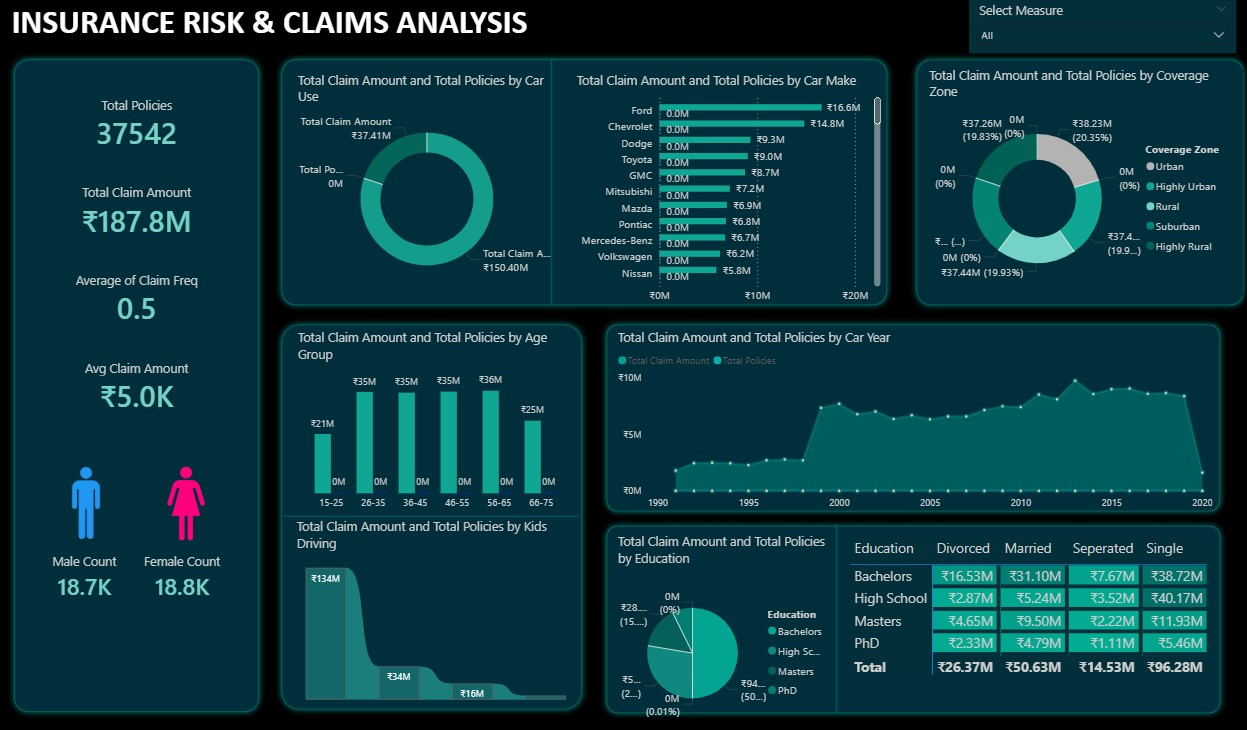

The page's visual inventory and layout, read from the dashboard file:
{"tool":"powerbi","page":{"name":"Page 1","canvas":[1600,950],"ordinal":0},"visuals":[{"type":"textbox","box":[11.2,0,683.6,71.9],"z":0},{"type":"shape","box":[11.2,71.9,329,849.7],"z":1000},{"type":"cardVisual","fields":{"Data":["insurance_data_car.Total Policies","insurance_data_car.Total Claim Amount","Avg(insurance_data_car.Claim Freq)","insurance_data_car.Avg Claim Amount"]},"box":[41.5,100.6,269.9,460],"z":2000},{"type":"cardVisual","fields":{"Data":["insurance_data_car.Male Count","insurance_data_car.Female Count"]},"box":[41.5,685.2,260.3,110.2],"z":3000},{"type":"image","box":[85,561.7,355,170],"z":4000},{"type":"image","box":[0,595,221.7,101.7],"z":5000},{"type":"slicer","fields":{"Values":["Select Measure.Select Measure"]},"box":[1239.4,0,341.8,71.9],"z":6000},{"type":"shape","box":[353.3,71.7,790,330],"z":7000},{"type":"donutChart","fields":{"Y":["insurance_data_car.Total Claim Amount","insurance_data_car.Total Policies"],"Category":["insurance_data_car.Car Use"]},"box":[376.7,95,340,285],"z":8000},{"type":"clusteredBarChart","fields":{"Y":["insurance_data_car.Total Claim Amount","insurance_data_car.Total Policies"],"Category":["insurance_data_car.Car Make"]},"box":[733.3,95,398.3,306.7],"z":9000},{"type":"shape","box":[1165,71.7,435,330],"z":10000},{"type":"donutChart","fields":{"Y":["insurance_data_car.Total Claim Amount","insurance_data_car.Total Policies"],"Category":["insurance_data_car.Coverage Zone"]},"box":[1183.3,88.3,398.3,296.7],"z":11000},{"type":"shape","box":[353.3,410,400,508],"z":12000},{"type":"clusteredColumnChart","fields":{"Y":["insurance_data_car.Total Claim Amount","insurance_data_car.Total Policies"],"Category":["insurance_data_car.Age Group"]},"box":[376.9,423.3,364.2,241.2],"z":13000},{"type":"ribbonChart","fields":{"Y":["insurance_data_car.Total Claim Amount","insurance_data_car.Total Policies"],"Category":["insurance_data_car.Kids Driving"]},"box":[375.3,664.4,365.8,239.6],"z":14000},{"type":"shape","box":[768.2,410.5,800,255],"z":15000},{"type":"shape","box":[768.2,667.6,800.2,255.5],"z":16000},{"type":"areaChart","fields":{"Y":["insurance_data_car.Total Claim Amount","insurance_data_car.Total Policies"],"Category":["insurance_data_car.Car Year"]},"box":[785.8,423.3,769.8,241.2],"z":17000},{"type":"pieChart","fields":{"Y":["insurance_data_car.Total Claim Amount","insurance_data_car.Total Policies"],"Category":["insurance_data_car.Education"]},"box":[785.8,683.6,284.3,266.7],"z":18000},{"type":"pivotTable","fields":{"Rows":["insurance_data_car.Education"],"Columns":["insurance_data_car.Marital Status"],"Values":["insurance_data_car.Total Claim Amount"]},"box":[1082.9,685.2,515.9,220.4],"z":19000},{"type":"shape","box":[364.2,514.3,376.9,298.7],"z":19001},{"type":"shape","box":[881.6,674,376.9,241.2],"z":19002},{"type":"shape","box":[517.5,79.9,376.9,313],"z":19003}]}

Visuals, with their boxes in screenshot pixels (x1, y1, x2, y2), scaled from the page's 1600x950 canvas onto the 1247x730 screenshot:
textbox: crop(9, 0, 542, 55)
shape: crop(9, 55, 265, 708)
cardVisual - insurance_data_car.Total Policies x insurance_data_car.Total Claim Amount: crop(32, 77, 243, 431)
cardVisual - insurance_data_car.Male Count x insurance_data_car.Female Count: crop(32, 527, 235, 611)
image: crop(66, 432, 343, 562)
image: crop(0, 457, 173, 535)
slicer - Select Measure.Select Measure: crop(966, 0, 1232, 55)
shape: crop(275, 55, 891, 309)
donutChart - insurance_data_car.Total Claim Amount x insurance_data_car.Total Policies: crop(294, 73, 559, 292)
clusteredBarChart - insurance_data_car.Total Claim Amount x insurance_data_car.Total Policies: crop(572, 73, 882, 309)
shape: crop(908, 55, 1246, 309)
donutChart - insurance_data_car.Total Claim Amount x insurance_data_car.Total Policies: crop(922, 68, 1233, 296)
shape: crop(275, 315, 587, 705)
clusteredColumnChart - insurance_data_car.Total Claim Amount x insurance_data_car.Total Policies: crop(294, 325, 578, 511)
ribbonChart - insurance_data_car.Total Claim Amount x insurance_data_car.Total Policies: crop(292, 511, 578, 695)
shape: crop(599, 315, 1222, 511)
shape: crop(599, 513, 1222, 709)
areaChart - insurance_data_car.Total Claim Amount x insurance_data_car.Total Policies: crop(612, 325, 1212, 511)
pieChart - insurance_data_car.Total Claim Amount x insurance_data_car.Total Policies: crop(612, 525, 834, 729)
pivotTable - insurance_data_car.Education x insurance_data_car.Marital Status: crop(844, 527, 1246, 696)
shape: crop(284, 395, 578, 625)
shape: crop(687, 518, 981, 703)
shape: crop(403, 61, 697, 302)
